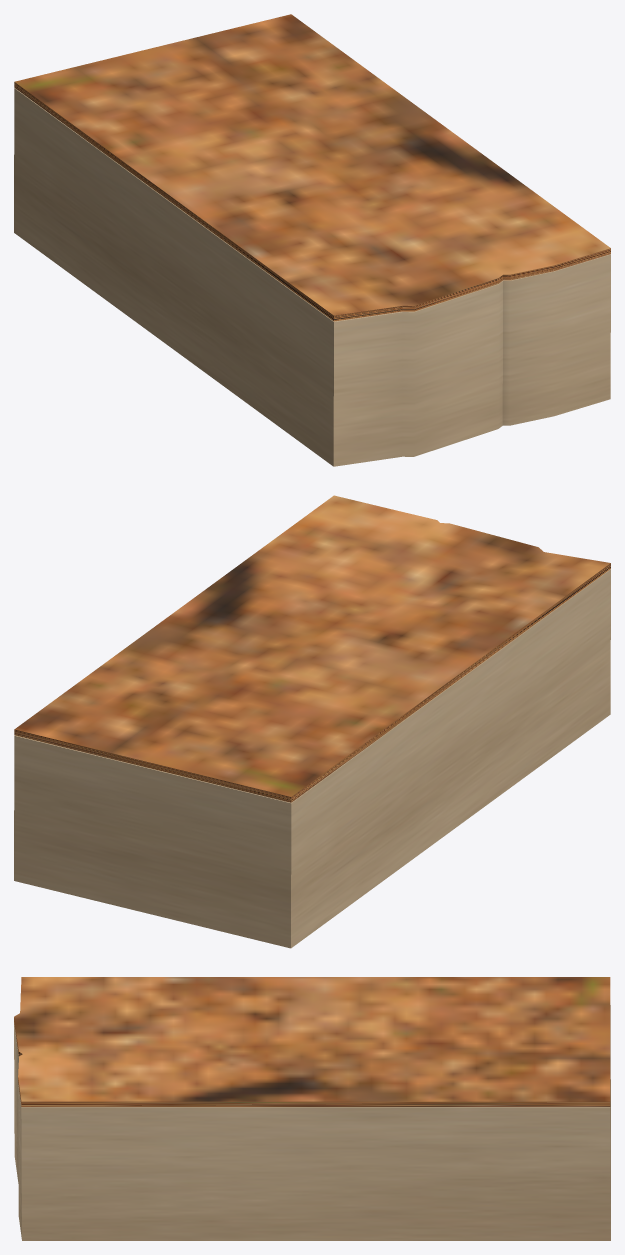
Rendered from Border_4(4).fbx.
The picture shows the model from 3 angles, top to bottom: view 1: azimuth 30°, elevation 25°; view 2: azimuth 150°, elevation 25°; view 3: azimuth 270°, elevation 25°; orthographic projection. The views are drawn at different scales.
Visible parts, largest first — view 1: BORDER_4_TOP, BORDER_4; view 2: BORDER_4_TOP, BORDER_4; view 3: BORDER_4, BORDER_4_TOP.
Boxes of the visible parts, x1=… form: BORDER_4_TOP: x1=14, y1=14, x2=610, y2=321; BORDER_4: x1=14, y1=88, x2=610, y2=466; BORDER_4_TOP: x1=14, y1=495, x2=610, y2=802; BORDER_4: x1=14, y1=569, x2=610, y2=948; BORDER_4: x1=14, y1=1005, x2=610, y2=1240; BORDER_4_TOP: x1=14, y1=977, x2=610, y2=1106.
Bounding box in the file's own units: 5000 × 2713 × 10131.
2 materials, 2 textured.
